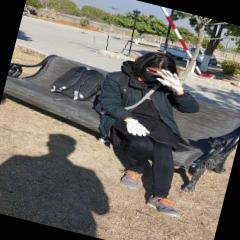gloved: (155, 68, 186, 94), (120, 118, 152, 138)
